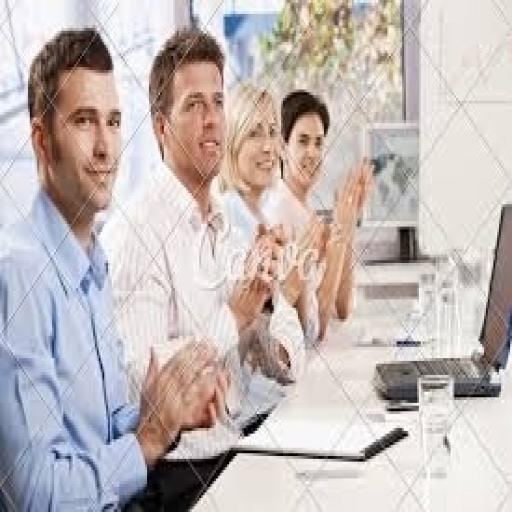clapping: (0, 25, 231, 509), (101, 25, 307, 509), (274, 87, 374, 347)
